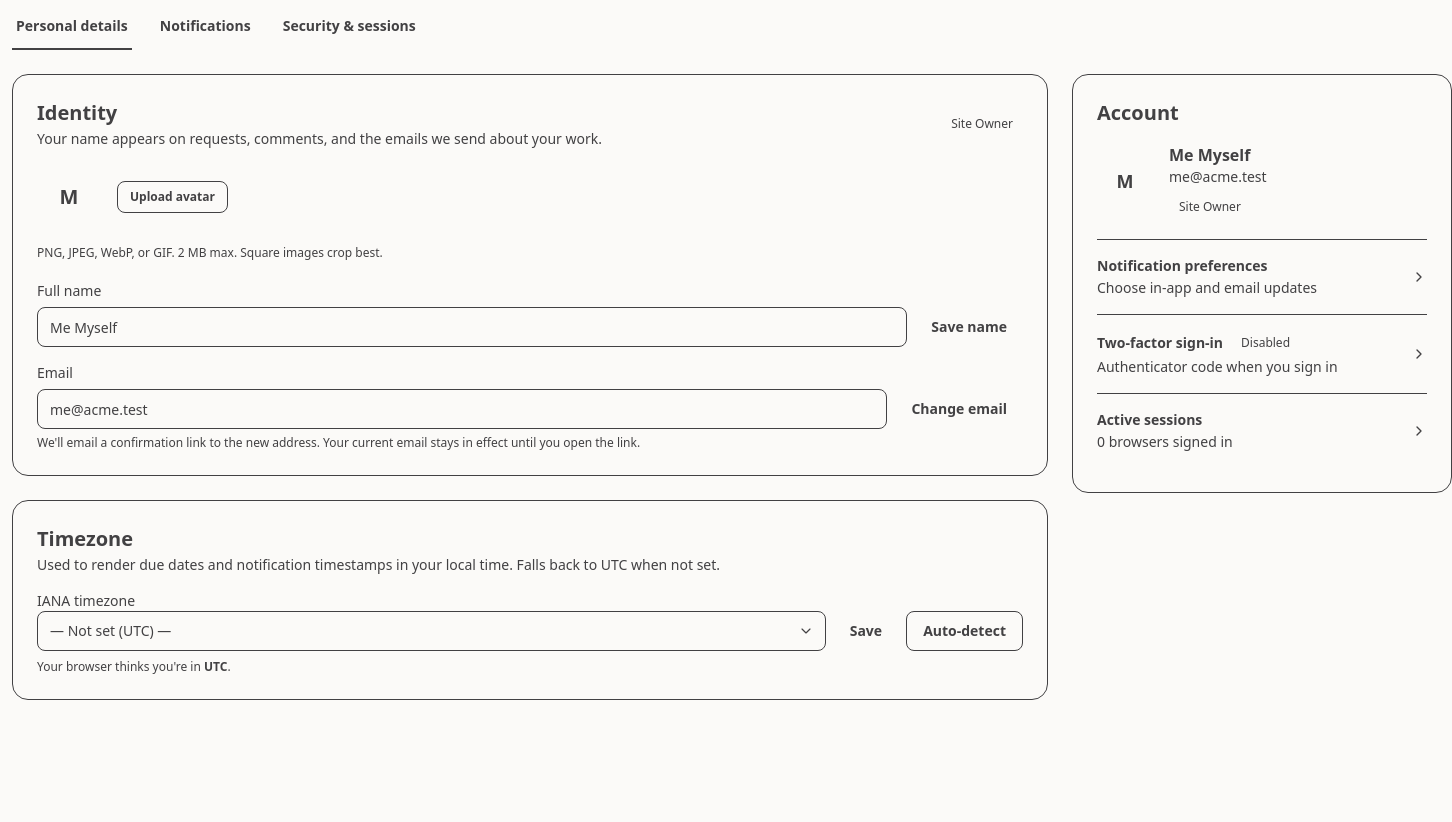
ProfileForm surfaces › leaves the admin's three tabs and summary as they are
Expected: the heading "Identity" is shown, [37, 99, 117, 126]
Expected: the heading "Account" is shown, [1097, 99, 1179, 126]
// Admin keeps the password field directly in the card and no delete section.
Click the tab "Security & sessions".
click(349, 31)  # box [279, 12, 420, 50]
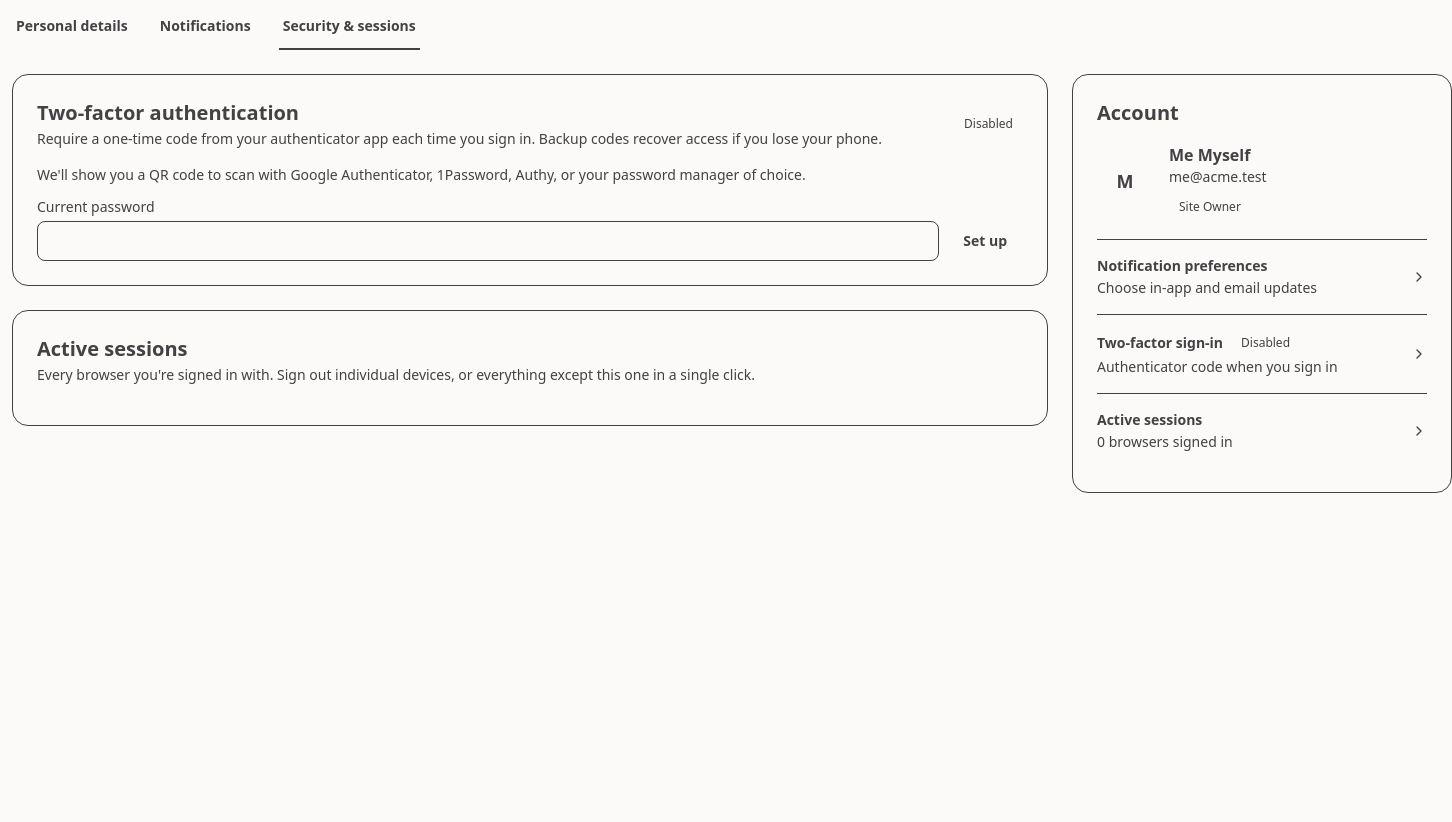
Expected: the button "Set up" is shown, [947, 221, 1023, 261]
